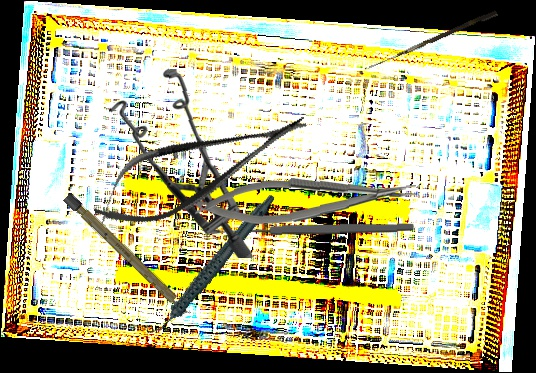Handpiece: (123, 192, 300, 340)
Hook Surgical: (368, 8, 499, 74)
Micro Scissor: (80, 91, 321, 245)
Needle Holder: (194, 174, 417, 227)
Scalpel Handle: (63, 192, 193, 319)
Speculum: (103, 66, 260, 259)
Surgical Spoon: (206, 221, 416, 237)
